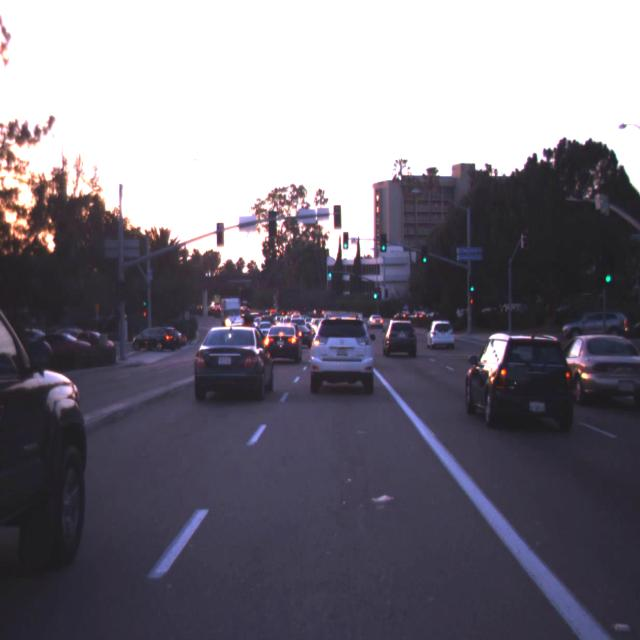arka_lamba: (334, 205, 342, 229), (268, 212, 276, 236), (216, 223, 224, 247)
yesil: (422, 246, 428, 264), (381, 234, 386, 252), (343, 232, 348, 249)
